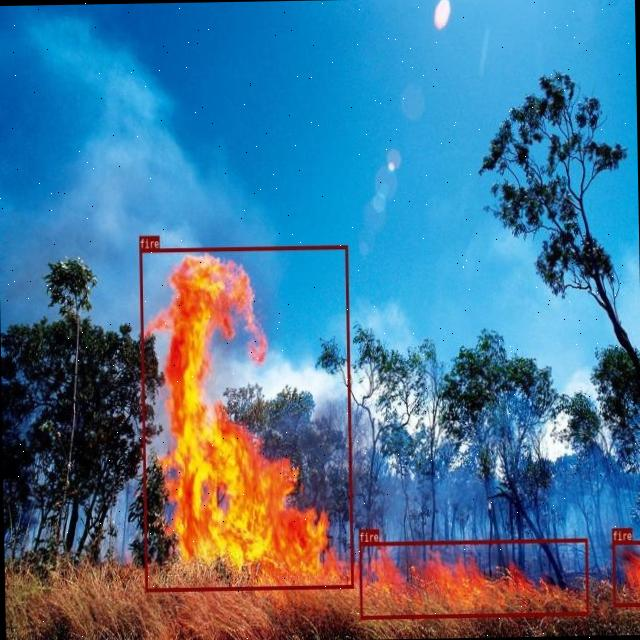fire: (138, 244, 352, 592), (359, 538, 588, 618), (612, 540, 640, 606)
